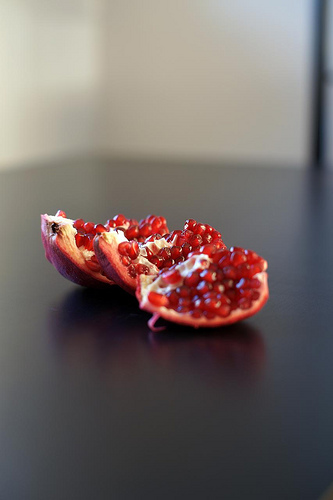pomogranate: (36, 212, 277, 327)
